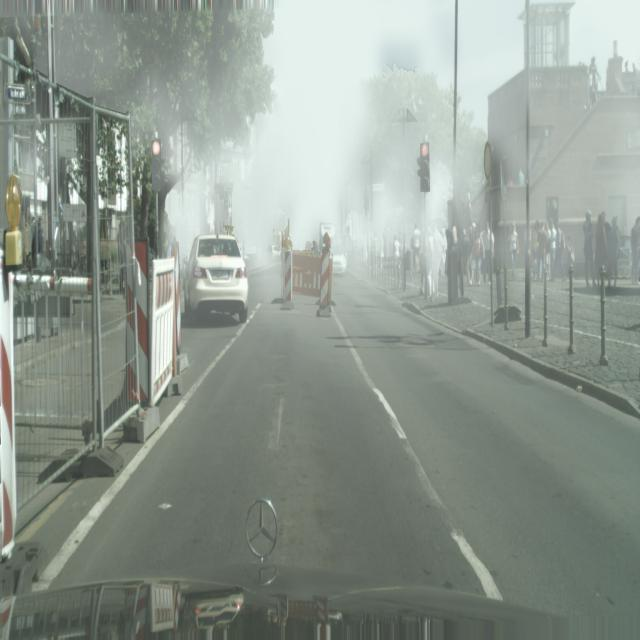person: (594, 211, 608, 285), (582, 210, 595, 289), (431, 221, 443, 300), (607, 216, 619, 288), (481, 220, 494, 285), (630, 215, 640, 285), (508, 221, 519, 281)
truck: (182, 234, 249, 324), (331, 248, 347, 276)
